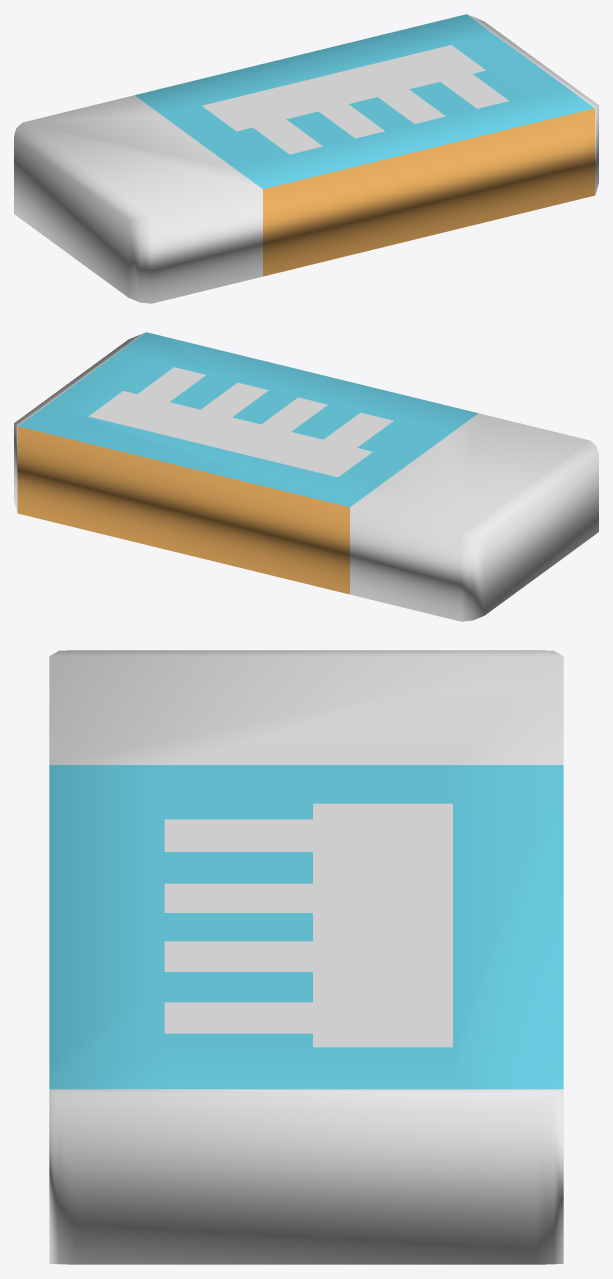
Rendered from Eraser2.glb.
3 renders of one model, top to bottom at view 1: azimuth 30°, elevation 25°; view 2: azimuth 150°, elevation 25°; view 3: azimuth 270°, elevation 25°, orthographic. The views are drawn at different scales.
Visible parts, largest first — view 1: Cube.001; view 2: Cube.001; view 3: Cube.001.
Boxes of the visible parts, x1,y1,x2,y2 form: Cube.001: (14,14,598,303); Cube.001: (14,332,598,621); Cube.001: (49,650,563,1264).
Bounding box in the file's own units: 2.97 × 0.5259 × 1.4.
